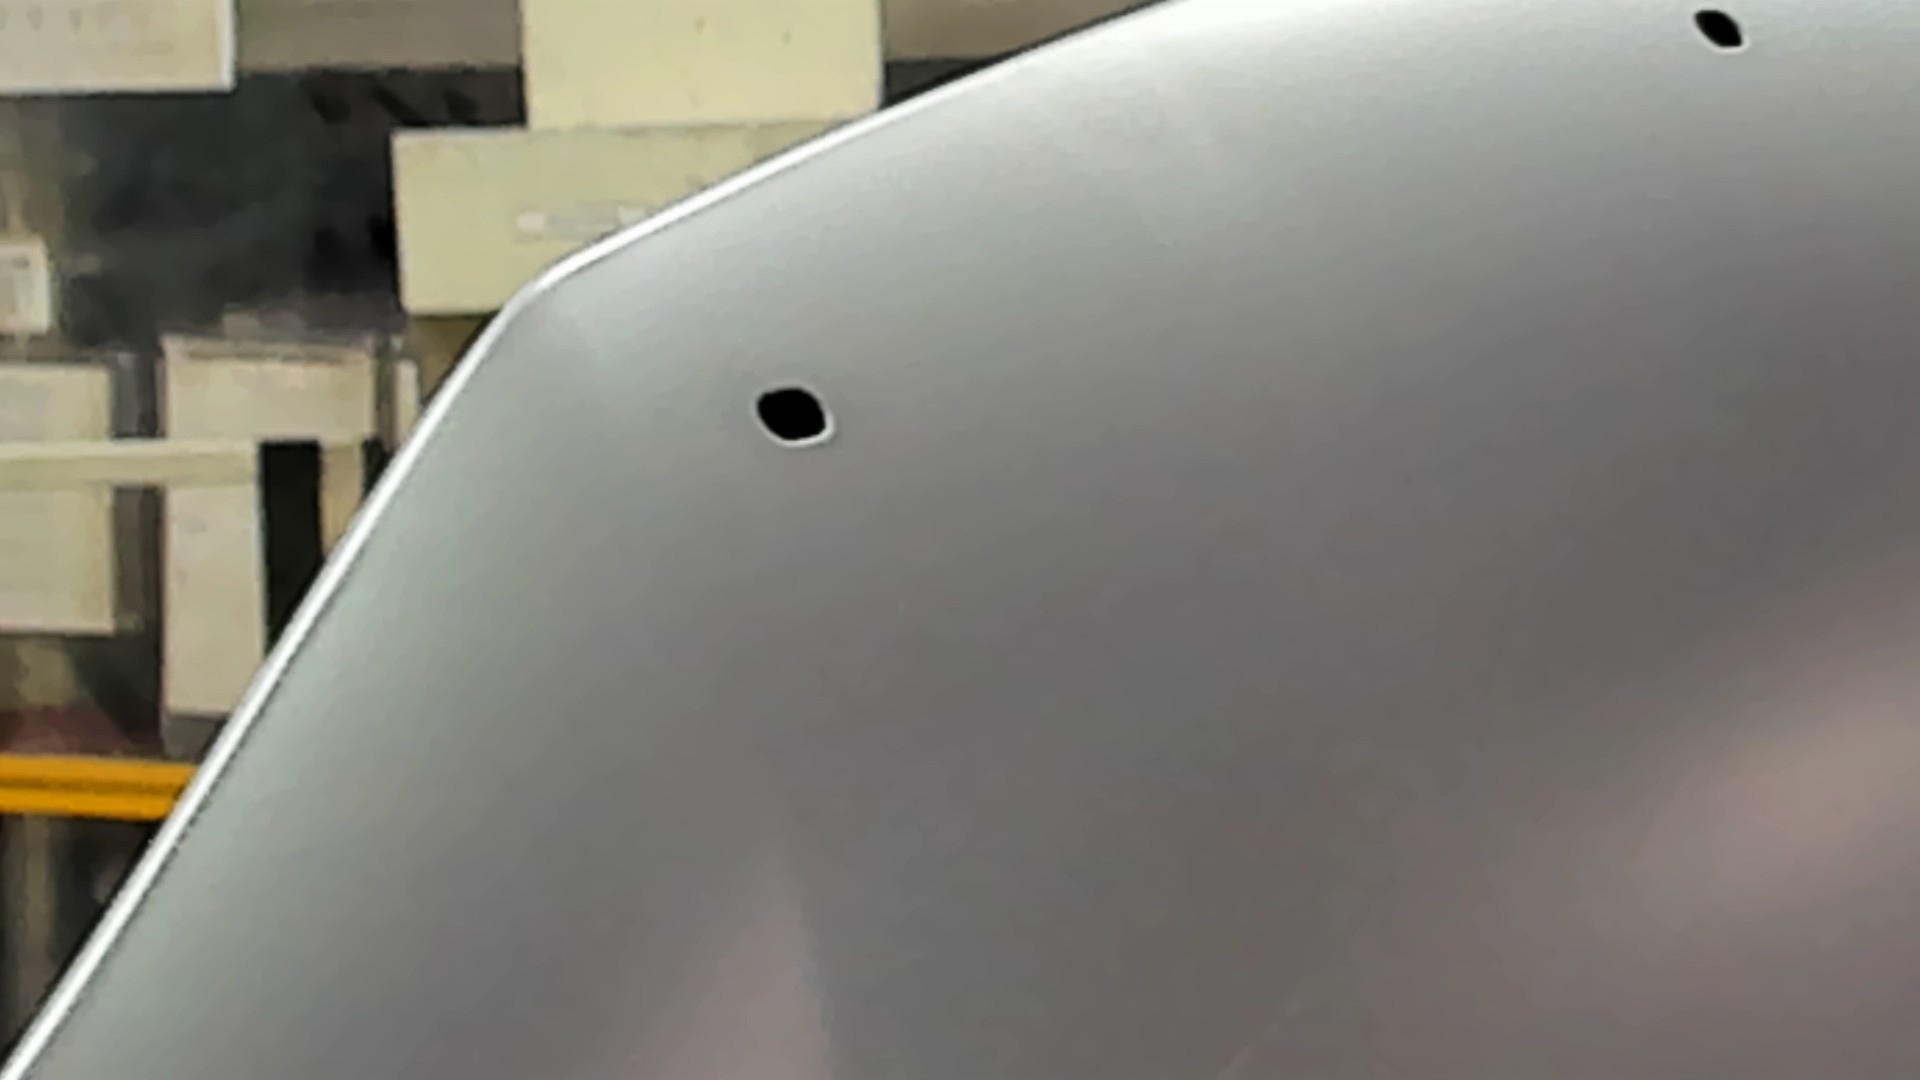amorfo: (746, 382, 837, 444), (1689, 7, 1753, 61)
